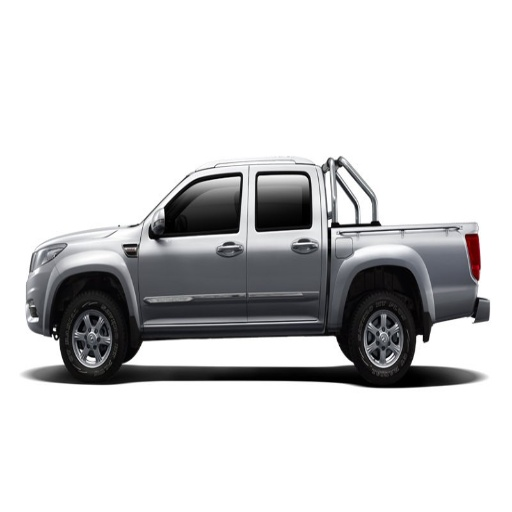back_left_door: (250, 165, 326, 318)
front_left_door: (138, 168, 247, 323)
trunk: (329, 231, 479, 323)
